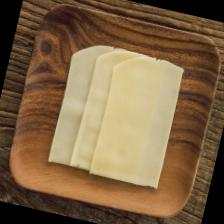cheese: (88, 50, 187, 190), (68, 44, 165, 184), (46, 39, 128, 174)
